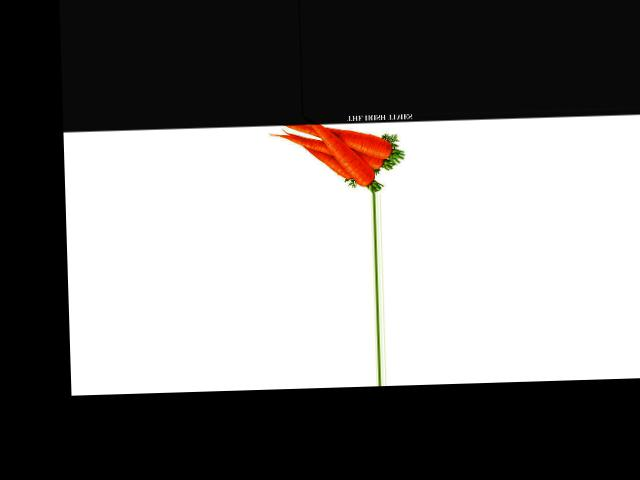carrot: (315, 111, 403, 159)
